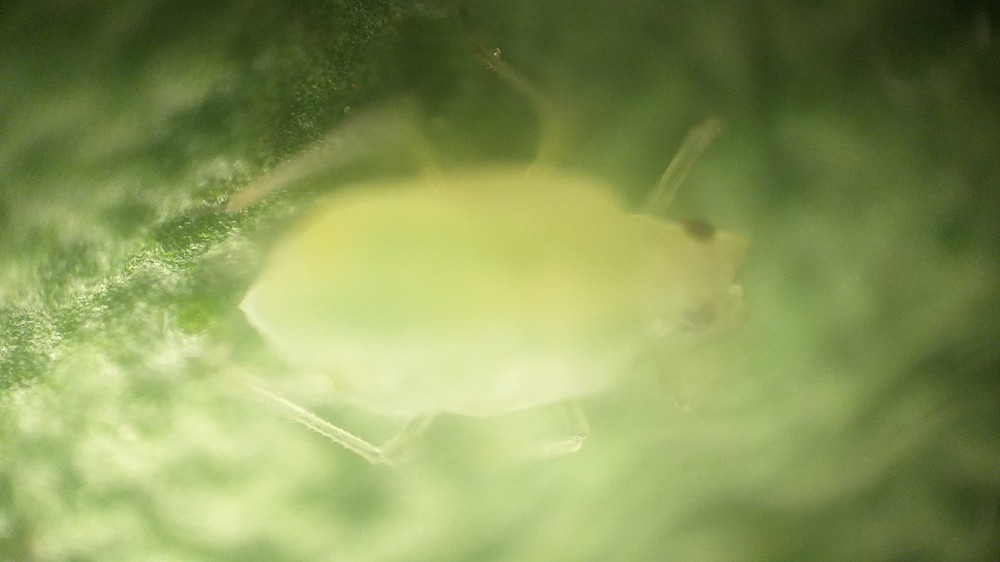Pulgon: (208, 57, 785, 510)
